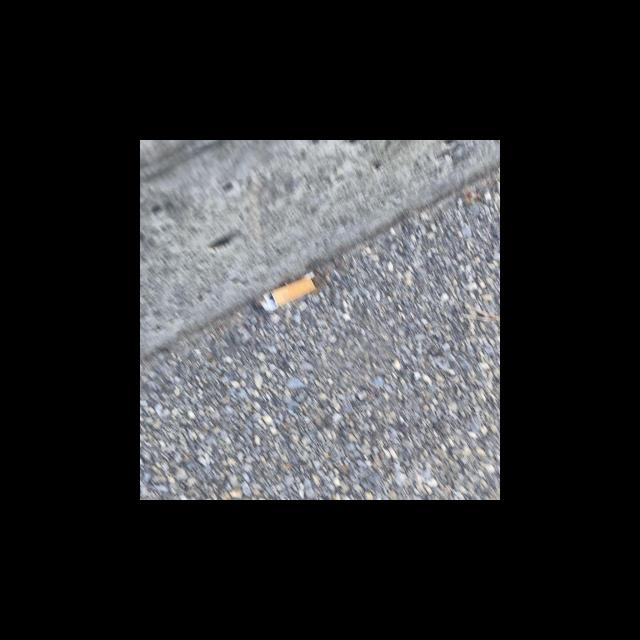cigarette: (259, 274, 317, 312)
